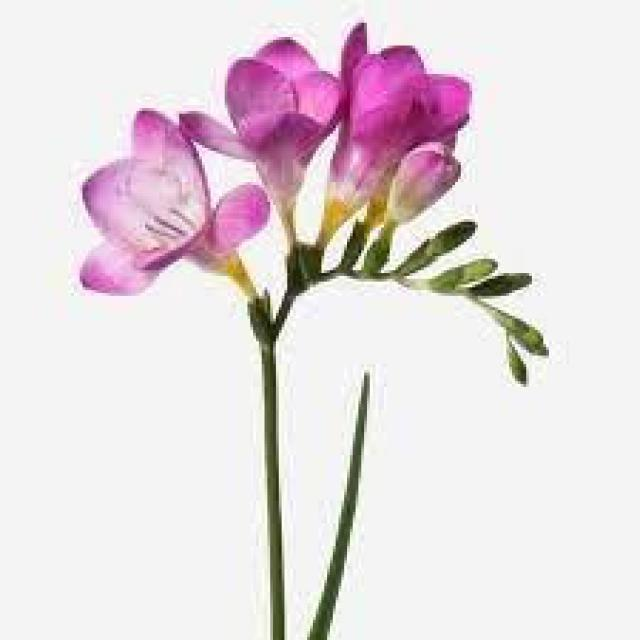freesia: (38, 97, 277, 314), (75, 110, 264, 293), (337, 23, 500, 218), (180, 35, 350, 174)
